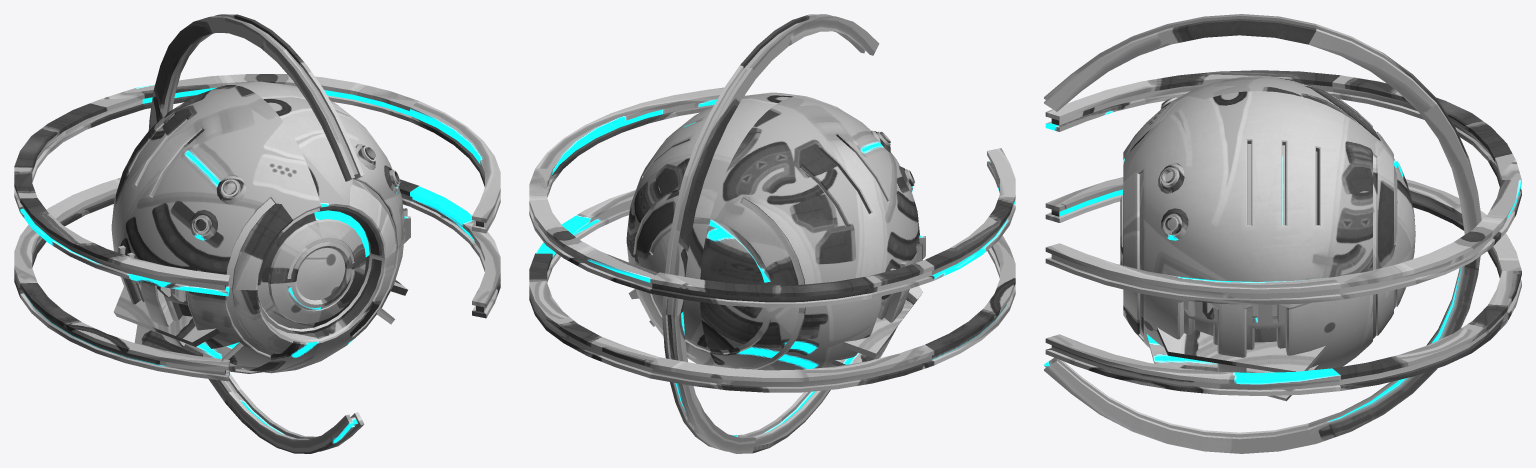
File: uploads_files_4806755_Sphere_ship_02(FBX).fbx
The picture shows the model from 3 angles, left to right: view 1: azimuth 30°, elevation 25°; view 2: azimuth 150°, elevation 25°; view 3: azimuth 270°, elevation 25°; orthographic projection. The views are drawn at different scales.
Visible parts, largest first — view 1: Sphere_ship_02_poly; view 2: Sphere_ship_02_poly; view 3: Sphere_ship_02_poly.
Boxes of the visible parts, bbox=[...] form: Sphere_ship_02_poly: bbox=[14, 14, 500, 453]; Sphere_ship_02_poly: bbox=[529, 14, 1015, 453]; Sphere_ship_02_poly: bbox=[1044, 14, 1521, 453].
Size of the model in its own units: 21.03 by 19.38 by 19.36.
